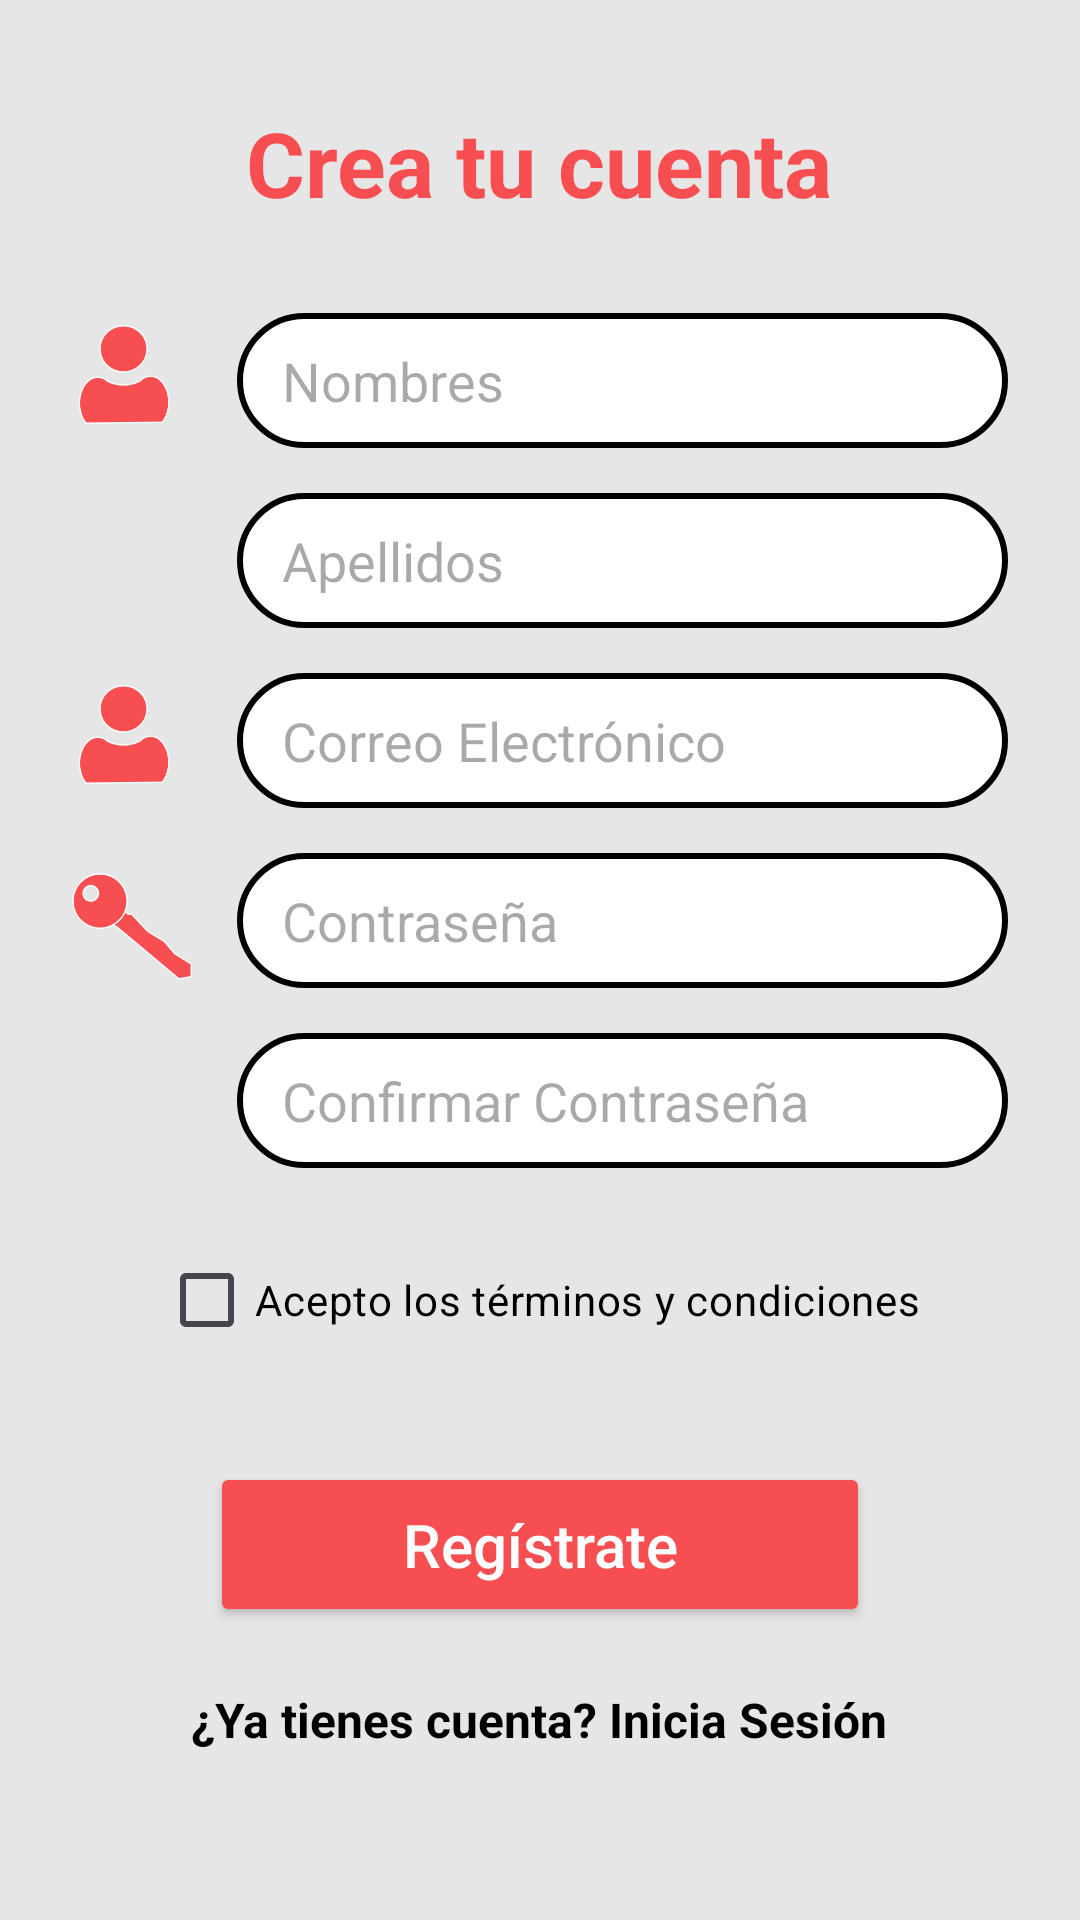

Where icons sit on this 1080x1920 app screen, as [x1, y1, x2, y2]:
password: [73, 874, 191, 979]
user: [79, 326, 169, 423], [79, 686, 169, 783]
